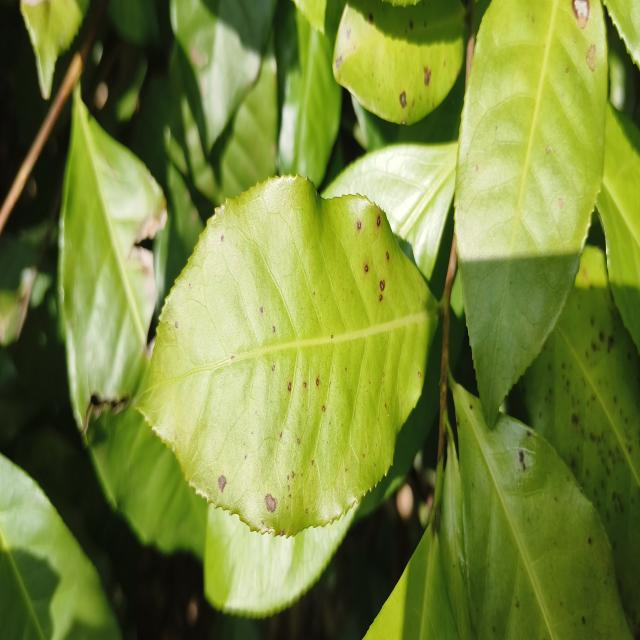Leaf: (139, 176, 437, 536), (58, 87, 207, 559), (455, 0, 607, 425), (451, 383, 631, 640), (521, 263, 640, 637), (0, 454, 120, 640), (333, 0, 465, 125), (171, 0, 275, 152), (276, 0, 342, 188), (364, 526, 459, 640), (597, 102, 640, 353)
